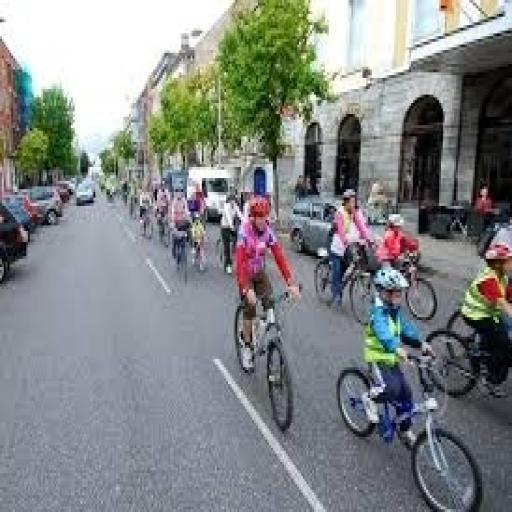cycling: (359, 264, 439, 448), (230, 192, 303, 376), (458, 236, 510, 398), (325, 184, 378, 314)
